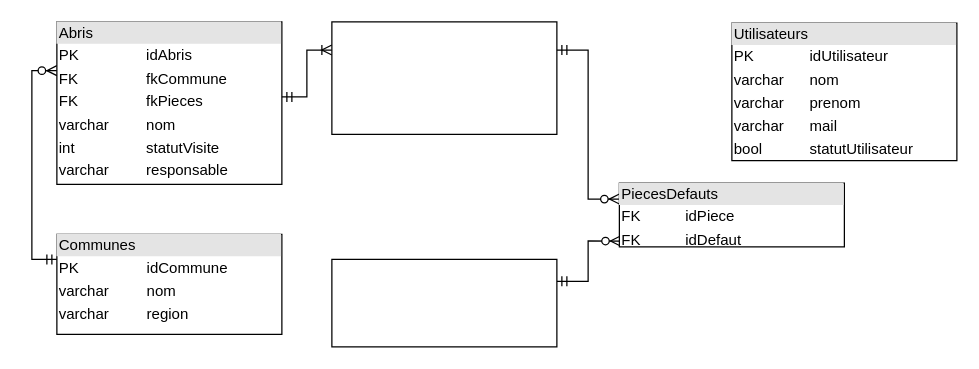
This 979x369 diagram has some shape labels left out. Each missing label, with the centre of its shape:
Defauts PK idDefaut varchar type vachar description: the point at 444,302
Pieces PK idPiece varchar nom int placesDisponibles varchar type: the point at 444,77
